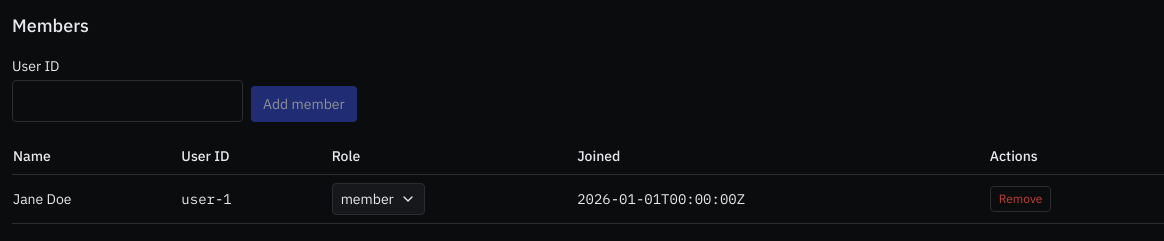
Test: MembersPage › shows a 404 error and refetches the list when removing an already-gone member
Expected: the text "Jane Doe" is shown, [12, 174, 180, 224]
Click the button "Remove".
click(1020, 199)  # box [990, 186, 1051, 212]
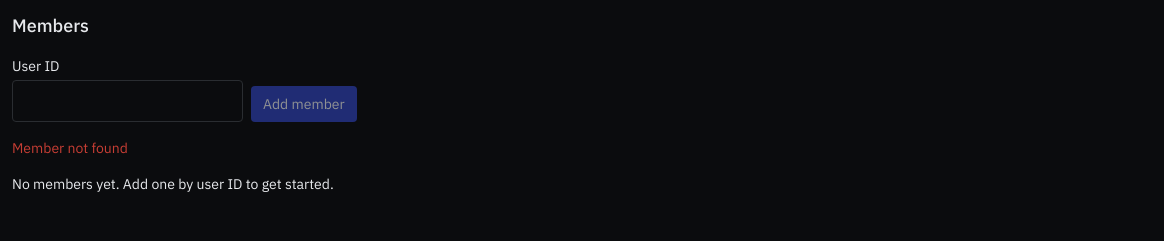
Expected: the text "Member not found" is shown, [12, 139, 128, 157]
Expected: the text "No members yet. Add one by user ID to get started." is shown, [12, 175, 334, 193]
